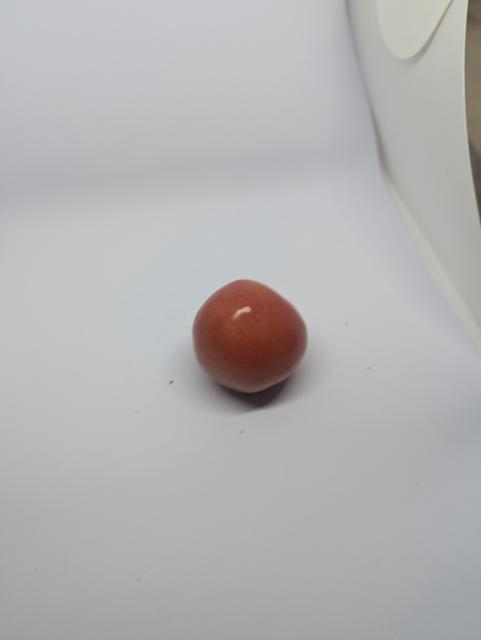red: (188, 273, 312, 409)
